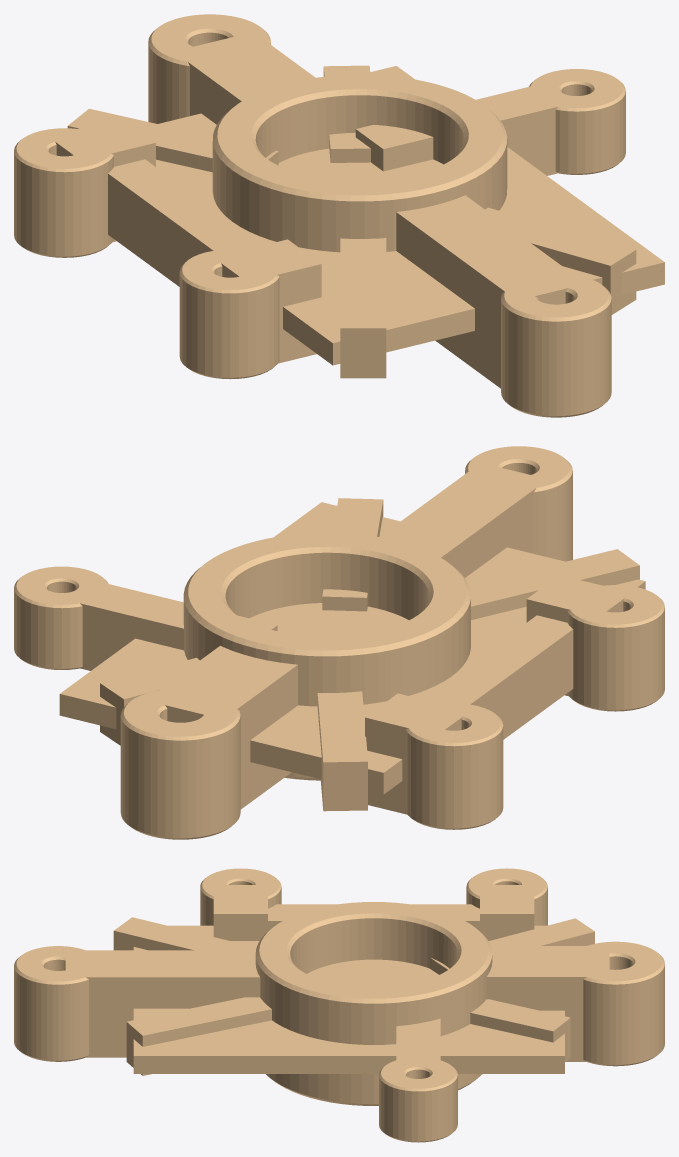
The model's file is suspension_knuckle.glb.
3 views of the same model, one above another, from view 1: azimuth 30°, elevation 25°; view 2: azimuth 150°, elevation 25°; view 3: azimuth 270°, elevation 25° (orthographic). The views are drawn at different scales.
Visible parts, largest first — view 1: SuspensionKnuckle; view 2: SuspensionKnuckle; view 3: SuspensionKnuckle.
Part boxes in pixels (x1,y1,x2,y2): SuspensionKnuckle: (14, 14, 664, 417); SuspensionKnuckle: (14, 446, 664, 839); SuspensionKnuckle: (14, 868, 664, 1142).
Size of the model in its own units: 1.02 by 0.24 by 1.32.
